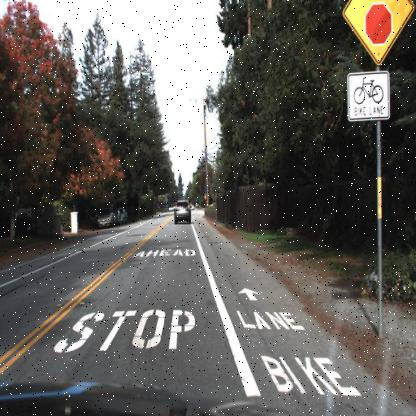car: (170, 198, 192, 230), (94, 206, 116, 230)
